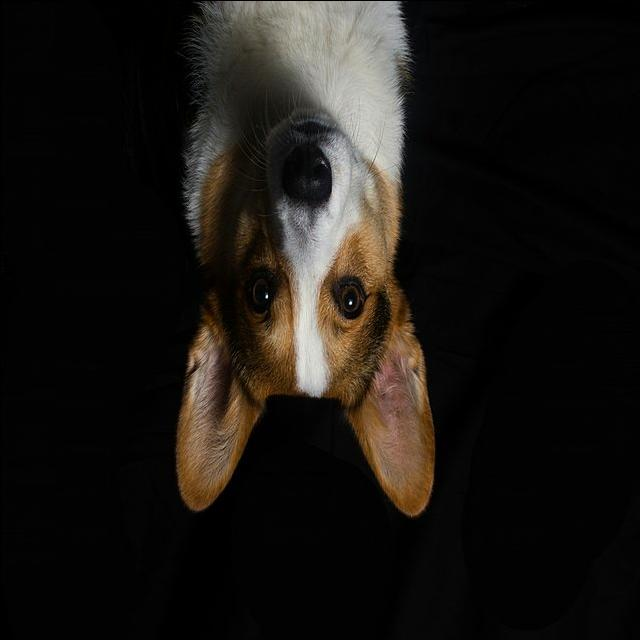corgi: (171, 2, 436, 519)
